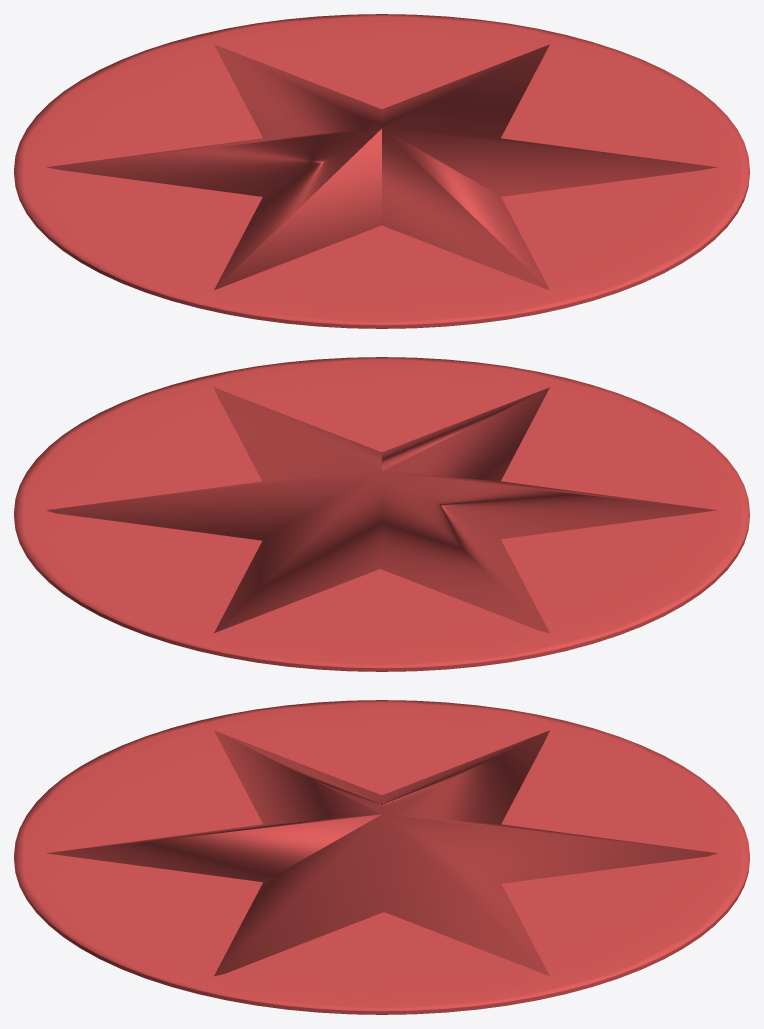
3 renders of one model, top to bottom at view 1: azimuth 30°, elevation 25°; view 2: azimuth 150°, elevation 25°; view 3: azimuth 270°, elevation 25°, orthographic.
Parts seen in each view (by area): view 1: Cylinder002, Star001; view 2: Cylinder002, Star001; view 3: Cylinder002, Star001.
Boxes of the visible parts, bbox=[...] form: Cylinder002: bbox=[14, 14, 749, 328]; Star001: bbox=[46, 44, 717, 290]; Cylinder002: bbox=[14, 357, 749, 671]; Star001: bbox=[46, 387, 716, 633]; Cylinder002: bbox=[14, 700, 749, 1014]; Star001: bbox=[47, 730, 717, 976].
Size of the model in its own units: 8.58 by 1 by 8.58.
